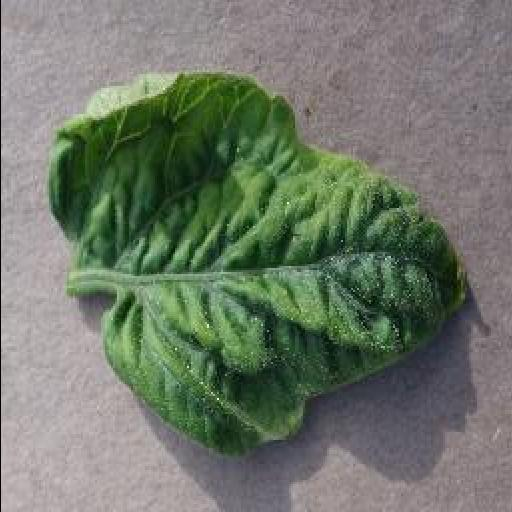disease_tomato: (44, 71, 472, 457)
